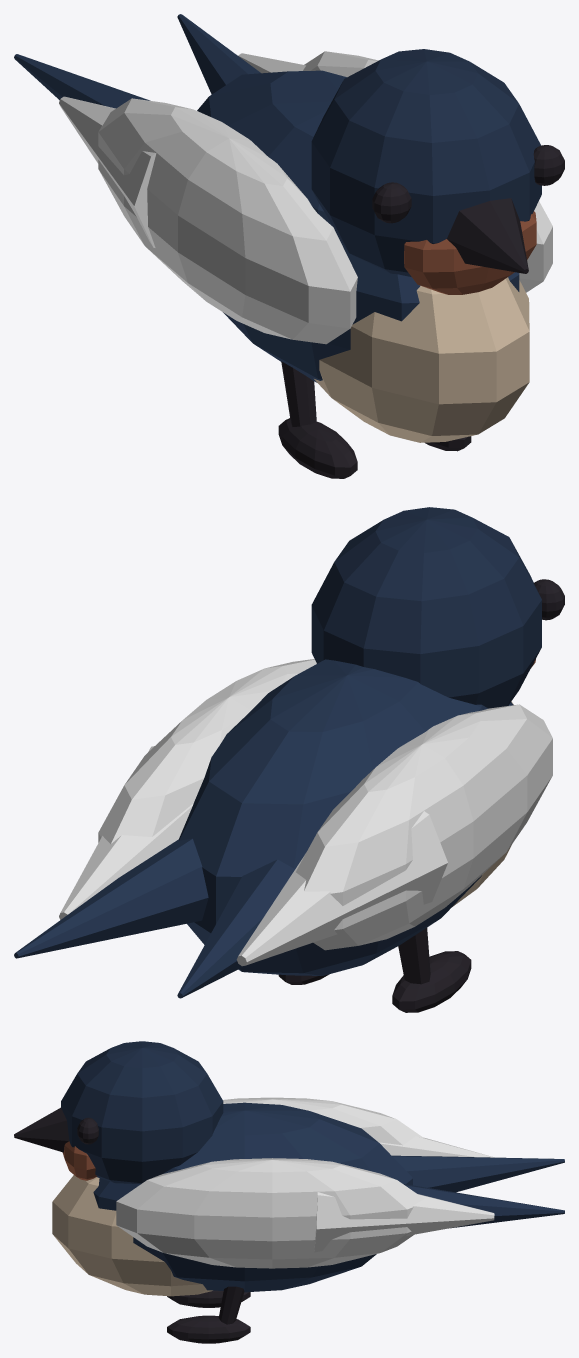
Rendered from swallow.fbx.
3 renders of one model, top to bottom at view 1: azimuth 30°, elevation 25°; view 2: azimuth 150°, elevation 25°; view 3: azimuth 270°, elevation 25°, orthographic. The views are drawn at different scales.
Visible parts, largest first — view 1: Body, WingLeft, WingRight; view 2: Body, WingLeft, WingRight; view 3: Body, WingRight, WingLeft.
Boxes of the visible parts, bbox=[...] form: Body: bbox=[14, 14, 564, 478]; WingLeft: bbox=[59, 96, 357, 344]; WingRight: bbox=[238, 51, 552, 292]; Body: bbox=[14, 507, 564, 1012]; WingLeft: bbox=[236, 704, 552, 966]; WingRight: bbox=[59, 659, 316, 919]; Body: bbox=[14, 1041, 564, 1343]; WingRight: bbox=[116, 1158, 494, 1268]; WingLeft: bbox=[223, 1097, 494, 1157].
Bounding box in the file's own units: 36.39 × 47.6 × 86.09.
